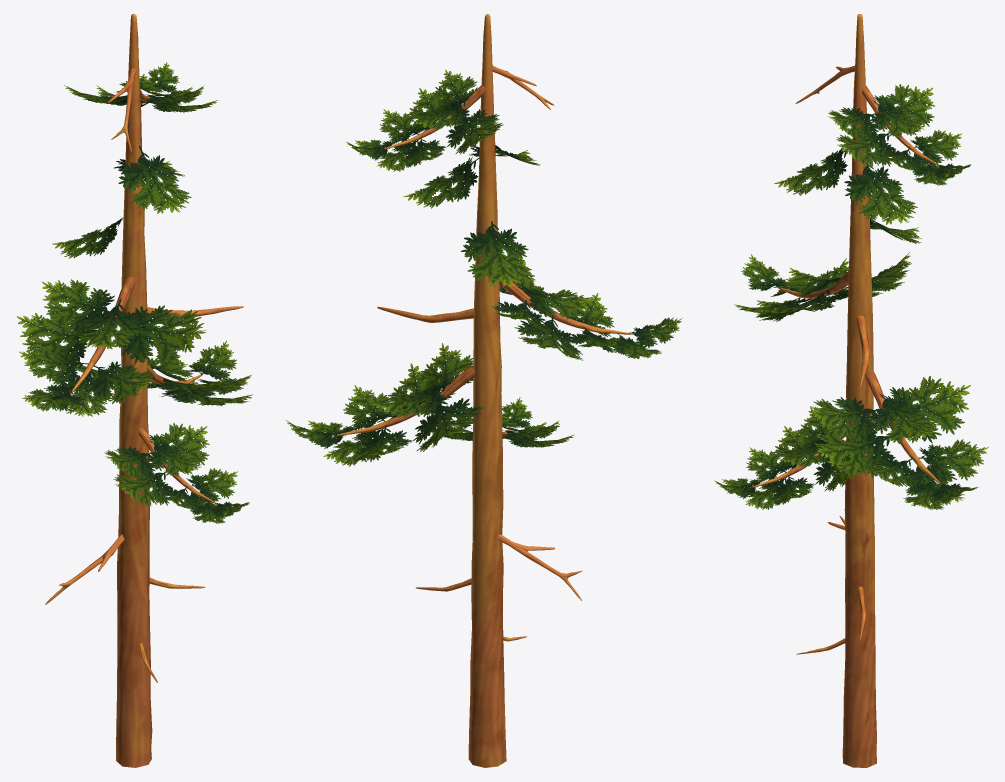
Rendered from small_pine_var1.glb.
The picture shows the model from 3 angles, left to right: view 1: azimuth 30°, elevation 25°; view 2: azimuth 150°, elevation 25°; view 3: azimuth 270°, elevation 25°; orthographic projection.
Visible parts, largest first — view 1: small_stylized_pine_var1_m_leaves_0, small_stylized_pine_var1_m_trunk_0; view 2: small_stylized_pine_var1_m_leaves_0, small_stylized_pine_var1_m_trunk_0; view 3: small_stylized_pine_var1_m_leaves_0, small_stylized_pine_var1_m_trunk_0.
Part boxes in pixels (box(x1,y1,x2,y2)): small_stylized_pine_var1_m_leaves_0: box(17, 62, 252, 523); small_stylized_pine_var1_m_trunk_0: box(45, 14, 243, 767); small_stylized_pine_var1_m_leaves_0: box(286, 69, 682, 466); small_stylized_pine_var1_m_trunk_0: box(336, 14, 633, 767); small_stylized_pine_var1_m_leaves_0: box(714, 84, 988, 509); small_stylized_pine_var1_m_trunk_0: box(750, 14, 941, 767).
Size of the model in its own units: 2.94 by 7.06 by 2.38.
2 materials, 2 textured.
